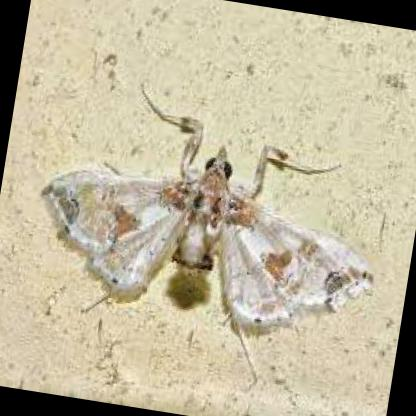leucinodes: (42, 119, 372, 333)
